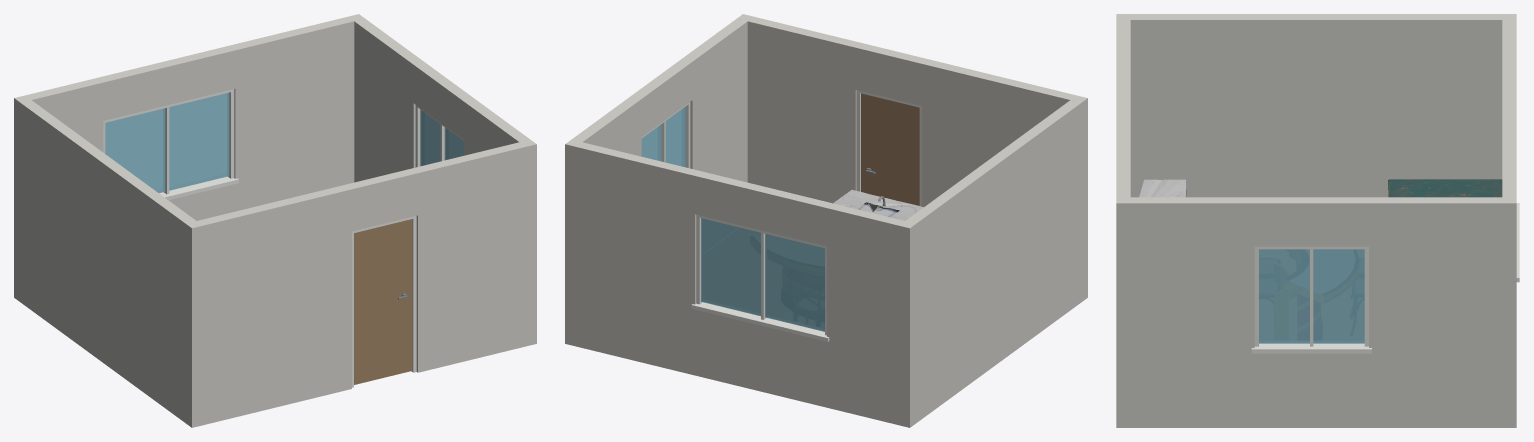
Rendered from layoutgpt.glb.
3 renders of one model, left to right at view 1: azimuth 30°, elevation 25°; view 2: azimuth 150°, elevation 25°; view 3: azimuth 270°, elevation 25°, orthographic. The views are drawn at different scales.
Visible parts, largest first — view 1: wall|scenesmith_073__R00|0, wall|scenesmith_073__R00|2, wall|scenesmith_073__R00|1, wall|scenesmith_073__R00|3, wall|scenesmith_073__R00|0 Door 0 | wood leaf, wall|scenesmith_073__R00|1 Window 0 | glazing, wall|scenesmith_073__R00|1 Window 0 | jamb, wall|scenesmith_073__R00|3 Window 0 | glazing, wall|scenesmith_073__R00|0 Door 0 | jamb, wall|scenesmith_073__R00|3 Window 0 | jamb; view 2: wall|scenesmith_073__R00|1, wall|scenesmith_073__R00|2, wall|scenesmith_073__R00|0, wall|scenesmith_073__R00|3, wall|scenesmith_073__R00|1 Window 0 | glazing, wall|scenesmith_073__R00|0 Door 0 | wood leaf, wall|scenesmith_073__R00|1 Window 0 | jamb, wall|scenesmith_073__R00|3 Window 0 | glazing, scenesmith_073__R00_5, wall|scenesmith_073__R00|0 Door 0 | jamb, wall|scenesmith_073__R00|3 Window 0 | jamb; view 3: wall|scenesmith_073__R00|3, wall|scenesmith_073__R00|2, wall|scenesmith_073__R00|3 Window 0 | glazing, wall|scenesmith_073__R00|3 Window 0 | jamb, wall|scenesmith_073__R00|0, wall|scenesmith_073__R00|1, scenesmith_073__R00_6, scenesmith_073__R00_5.
Part boxes in pixels (bbox=[...]): wall|scenesmith_073__R00|0: bbox=[186, 139, 536, 425]; wall|scenesmith_073__R00|2: bbox=[14, 95, 202, 427]; wall|scenesmith_073__R00|1: bbox=[14, 14, 364, 301]; wall|scenesmith_073__R00|3: bbox=[354, 18, 536, 346]; wall|scenesmith_073__R00|0 Door 0 | wood leaf: bbox=[354, 219, 412, 384]; wall|scenesmith_073__R00|1 Window 0 | glazing: bbox=[105, 92, 229, 193]; wall|scenesmith_073__R00|1 Window 0 | jamb: bbox=[103, 89, 238, 200]; wall|scenesmith_073__R00|3 Window 0 | glazing: bbox=[420, 109, 464, 166]; wall|scenesmith_073__R00|0 Door 0 | jamb: bbox=[352, 216, 416, 387]; wall|scenesmith_073__R00|3 Window 0 | jamb: bbox=[415, 105, 464, 167]; wall|scenesmith_073__R00|1: bbox=[565, 139, 916, 427]; wall|scenesmith_073__R00|2: bbox=[899, 98, 1087, 427]; wall|scenesmith_073__R00|0: bbox=[737, 14, 1087, 206]; wall|scenesmith_073__R00|3: bbox=[565, 18, 747, 346]; wall|scenesmith_073__R00|1 Window 0 | glazing: bbox=[701, 218, 824, 331]; wall|scenesmith_073__R00|0 Door 0 | wood leaf: bbox=[861, 93, 919, 205]; wall|scenesmith_073__R00|1 Window 0 | jamb: bbox=[691, 214, 829, 341]; wall|scenesmith_073__R00|3 Window 0 | glazing: bbox=[641, 106, 685, 167]; scenesmith_073__R00_5: bbox=[833, 190, 923, 220]; wall|scenesmith_073__R00|0 Door 0 | jamb: bbox=[856, 90, 921, 206]; wall|scenesmith_073__R00|3 Window 0 | jamb: bbox=[641, 102, 690, 168]; wall|scenesmith_073__R00|3: bbox=[1116, 197, 1516, 427]; wall|scenesmith_073__R00|2: bbox=[1130, 14, 1516, 197]; wall|scenesmith_073__R00|3 Window 0 | glazing: bbox=[1259, 249, 1364, 343]; wall|scenesmith_073__R00|3 Window 0 | jamb: bbox=[1251, 246, 1371, 353]; wall|scenesmith_073__R00|0: bbox=[1116, 14, 1130, 203]; wall|scenesmith_073__R00|1: bbox=[1502, 20, 1516, 203]; scenesmith_073__R00_6: bbox=[1388, 179, 1502, 197]; scenesmith_073__R00_5: bbox=[1139, 179, 1186, 197].
Size of the model in its own units: 4.73 by 2.61 by 4.23.
Materials: 11 (4 with a texture image).
